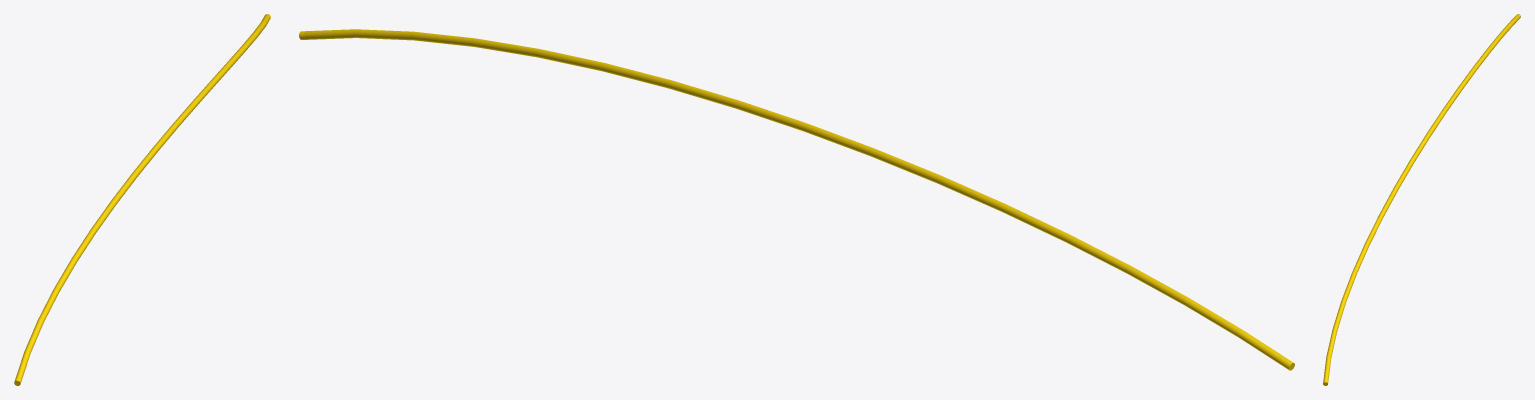
The model's file is Event_421364160_track_47.fbx.
3 views of the same model, side by side, from view 1: azimuth 90°, elevation 25°; view 2: azimuth 150°, elevation 25°; view 3: azimuth 270°, elevation 25° (orthographic). The views are drawn at different scales.
Parts seen in each view (by area): view 1: Model; view 2: Model; view 3: Model.
Boxes of the visible parts, bbox=[...] form: Model: bbox=[14, 14, 270, 385]; Model: bbox=[299, 29, 1294, 370]; Model: bbox=[1323, 14, 1520, 385].
Size of the model in its own units: 6.11 by 0.6072 by 1.57.
